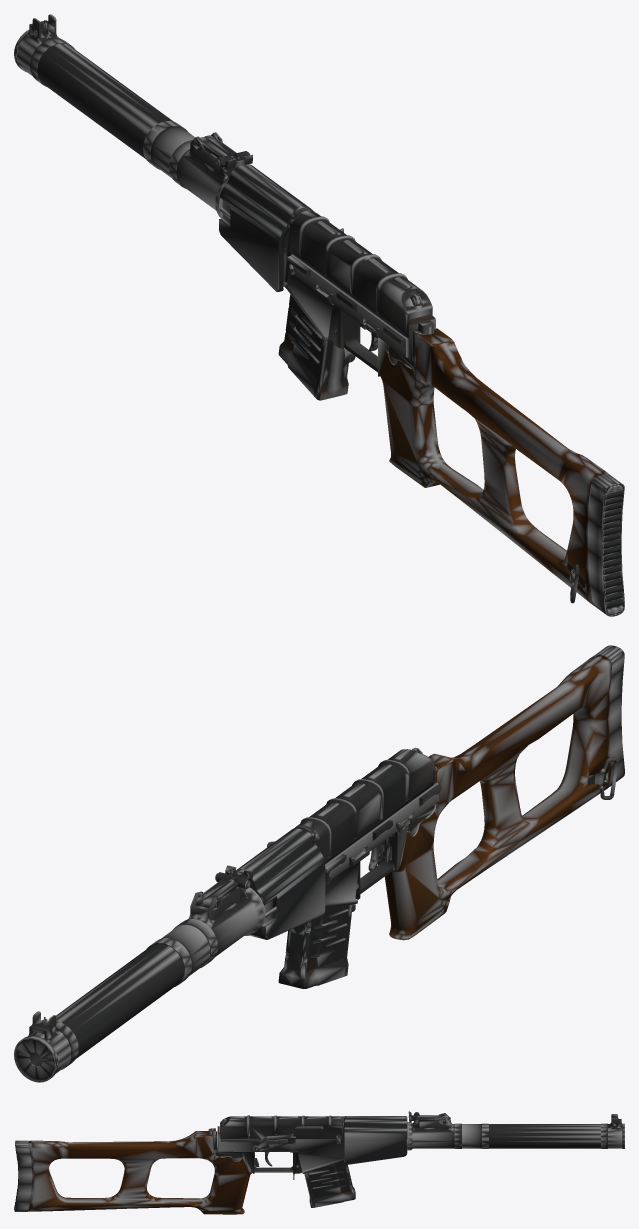
The model's file is vss_vintorez.glb.
3 views of the same model, one above another, from view 1: azimuth 30°, elevation 25°; view 2: azimuth 150°, elevation 25°; view 3: azimuth 270°, elevation 25° (orthographic). The views are drawn at different scales.
Parts seen in each view (by area): view 1: gun_vss_vintorez; view 2: gun_vss_vintorez; view 3: gun_vss_vintorez.
Boxes of the visible parts, box(x1,y1,x2,y2) form: gun_vss_vintorez: box(14, 14, 624, 616); gun_vss_vintorez: box(14, 645, 624, 1082); gun_vss_vintorez: box(14, 1111, 624, 1214).
Size of the model in its own units: 0.0614 by 0.1756 by 1.
